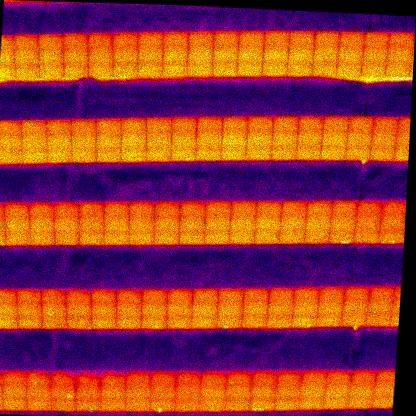Diode: (328, 228, 354, 244), (291, 314, 317, 329), (141, 315, 167, 330), (50, 383, 76, 398)
Hotspot: (311, 59, 337, 76), (295, 145, 322, 161), (195, 145, 222, 161), (103, 215, 130, 231), (225, 369, 252, 385), (111, 46, 138, 62), (111, 61, 138, 77), (170, 145, 196, 161), (79, 229, 105, 245), (248, 396, 274, 412), (211, 60, 237, 76), (215, 313, 242, 328), (286, 60, 313, 75), (270, 145, 296, 160), (353, 228, 379, 243), (25, 370, 51, 385), (149, 397, 175, 412), (40, 289, 67, 303), (99, 371, 126, 385), (29, 216, 54, 231), (75, 370, 100, 385), (378, 229, 404, 243), (266, 314, 292, 328), (66, 315, 92, 329), (273, 396, 299, 410), (40, 303, 67, 316), (316, 313, 341, 327), (75, 398, 100, 412), (92, 316, 117, 329)
Normal: (95, 117, 122, 135), (71, 117, 97, 135), (120, 132, 146, 150), (120, 145, 146, 163), (70, 146, 96, 164), (161, 59, 187, 77), (195, 115, 222, 132), (145, 116, 172, 133), (355, 200, 382, 217), (103, 200, 130, 217), (253, 227, 280, 244), (313, 30, 340, 47), (325, 368, 352, 385), (361, 46, 388, 63), (363, 30, 388, 48), (89, 288, 117, 304), (64, 288, 92, 304), (348, 116, 374, 133), (247, 116, 273, 133), (222, 115, 248, 132), (171, 117, 197, 134), (121, 116, 147, 133), (346, 130, 372, 147), (45, 118, 71, 135), (21, 119, 47, 136), (95, 132, 121, 149), (70, 133, 96, 150), (145, 146, 171, 163), (306, 198, 332, 215), (154, 213, 180, 230), (178, 228, 204, 245), (387, 31, 413, 48), (237, 29, 263, 46), (137, 31, 163, 48), (275, 368, 301, 385), (112, 31, 138, 48), (200, 369, 226, 386), (287, 45, 313, 62), (162, 45, 188, 62), (136, 46, 162, 63), (360, 61, 386, 78), (236, 60, 262, 77), (186, 59, 212, 76), (221, 131, 248, 147), (319, 145, 346, 161), (20, 132, 47, 148), (220, 145, 247, 161), (302, 227, 329, 243), (318, 285, 345, 301), (213, 31, 240, 47), (162, 30, 189, 46), (62, 47, 89, 63), (323, 116, 348, 133), (339, 31, 364, 48), (200, 383, 225, 400), (13, 34, 38, 51), (188, 46, 213, 63), (13, 49, 38, 66), (14, 288, 42, 303), (272, 116, 298, 132), (371, 130, 397, 146), (322, 130, 348, 146), (271, 131, 297, 147), (247, 131, 273, 147), (195, 131, 221, 147), (146, 132, 172, 148), (344, 143, 370, 159), (46, 133, 72, 149), (245, 145, 271, 161), (95, 147, 121, 163), (21, 147, 47, 163), (380, 200, 406, 216), (330, 200, 356, 216), (305, 213, 331, 229), (28, 201, 54, 217), (3, 202, 29, 218), (255, 214, 281, 230), (204, 214, 230, 230), (78, 214, 104, 230), (228, 229, 254, 245), (203, 229, 229, 245), (103, 229, 129, 245), (288, 31, 314, 47), (343, 285, 369, 301), (263, 30, 289, 46), (125, 370, 151, 386), (386, 47, 412, 63), (124, 396, 150, 412), (263, 45, 289, 61), (238, 45, 264, 61), (38, 48, 64, 64), (137, 61, 163, 77), (87, 61, 113, 77), (154, 228, 178, 245), (372, 116, 399, 131), (296, 131, 323, 146), (368, 145, 395, 160), (378, 215, 405, 230), (179, 214, 206, 229), (53, 215, 80, 230), (3, 216, 30, 231), (53, 230, 80, 245), (217, 288, 244, 303), (166, 289, 193, 304), (115, 289, 142, 304), (174, 383, 201, 398), (99, 396, 126, 411), (50, 396, 77, 411), (26, 397, 53, 412), (13, 64, 40, 79), (171, 131, 196, 147), (46, 148, 71, 164), (280, 213, 305, 229), (6, 230, 31, 246), (369, 286, 394, 302), (301, 368, 326, 384), (251, 368, 276, 384), (87, 32, 112, 48), (62, 32, 87, 48), (262, 60, 287, 76), (63, 62, 88, 78), (39, 63, 64, 79), (0, 134, 23, 151), (297, 117, 323, 132), (281, 199, 307, 214), (256, 200, 282, 215), (230, 201, 256, 216), (205, 201, 231, 216), (154, 200, 180, 215), (354, 215, 380, 230), (53, 201, 79, 216), (278, 228, 304, 243), (128, 229, 154, 244), (293, 287, 319, 302), (268, 288, 294, 303), (141, 289, 167, 304), (242, 301, 268, 316), (188, 31, 214, 46), (116, 315, 142, 330), (175, 370, 201, 385), (298, 382, 324, 397), (274, 383, 300, 398), (224, 397, 250, 412), (173, 397, 199, 412), (2, 396, 28, 411), (337, 46, 363, 61), (313, 46, 339, 61), (37, 34, 63, 49), (87, 47, 113, 62), (78, 201, 105, 215), (128, 216, 155, 230), (192, 288, 219, 302), (316, 300, 343, 314), (216, 301, 243, 315), (65, 302, 92, 316), (16, 315, 43, 329), (323, 384, 350, 398), (0, 370, 27, 384), (180, 200, 205, 215), (243, 288, 268, 303), (347, 395, 372, 410), (213, 47, 238, 62), (336, 61, 361, 76), (0, 147, 23, 163), (129, 201, 155, 215), (229, 216, 255, 230), (29, 231, 55, 245), (267, 301, 293, 315), (192, 302, 218, 316), (166, 303, 192, 317), (240, 314, 266, 328), (149, 372, 175, 386), (250, 384, 276, 398), (125, 385, 151, 399), (26, 384, 52, 398), (1, 383, 27, 397), (115, 304, 142, 317), (90, 304, 117, 317), (15, 302, 42, 315), (166, 316, 191, 330), (42, 315, 67, 329), (225, 384, 250, 398), (100, 384, 125, 398), (298, 396, 323, 410), (385, 62, 410, 76), (141, 303, 167, 316), (50, 370, 76, 383), (149, 386, 175, 399), (322, 397, 348, 410), (368, 301, 392, 315), (351, 369, 375, 383), (350, 382, 374, 396), (76, 384, 100, 398), (0, 120, 22, 135), (330, 215, 355, 228), (292, 302, 317, 315), (366, 314, 391, 327), (191, 315, 216, 328), (199, 398, 224, 411), (343, 301, 367, 314), (340, 314, 366, 326), (375, 369, 395, 384), (373, 382, 394, 396), (371, 396, 393, 409), (0, 315, 19, 330), (0, 287, 17, 303), (0, 302, 18, 316), (0, 383, 3, 398), (0, 396, 3, 409), (0, 368, 2, 384)
